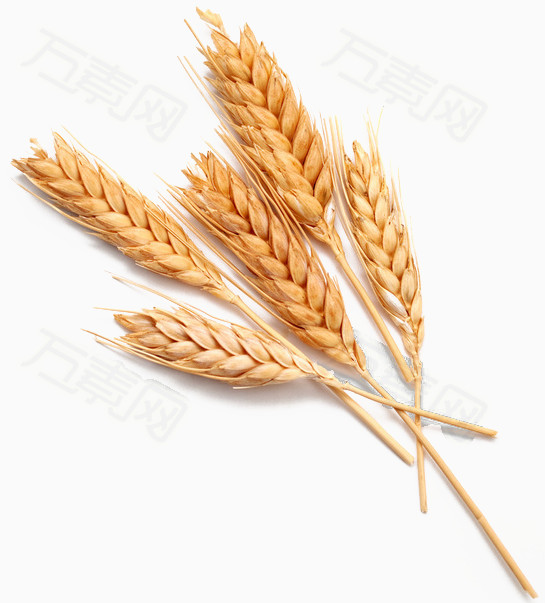wheat: (193, 15, 378, 318), (21, 128, 271, 328), (198, 161, 386, 394), (321, 129, 442, 393), (60, 293, 343, 385)
